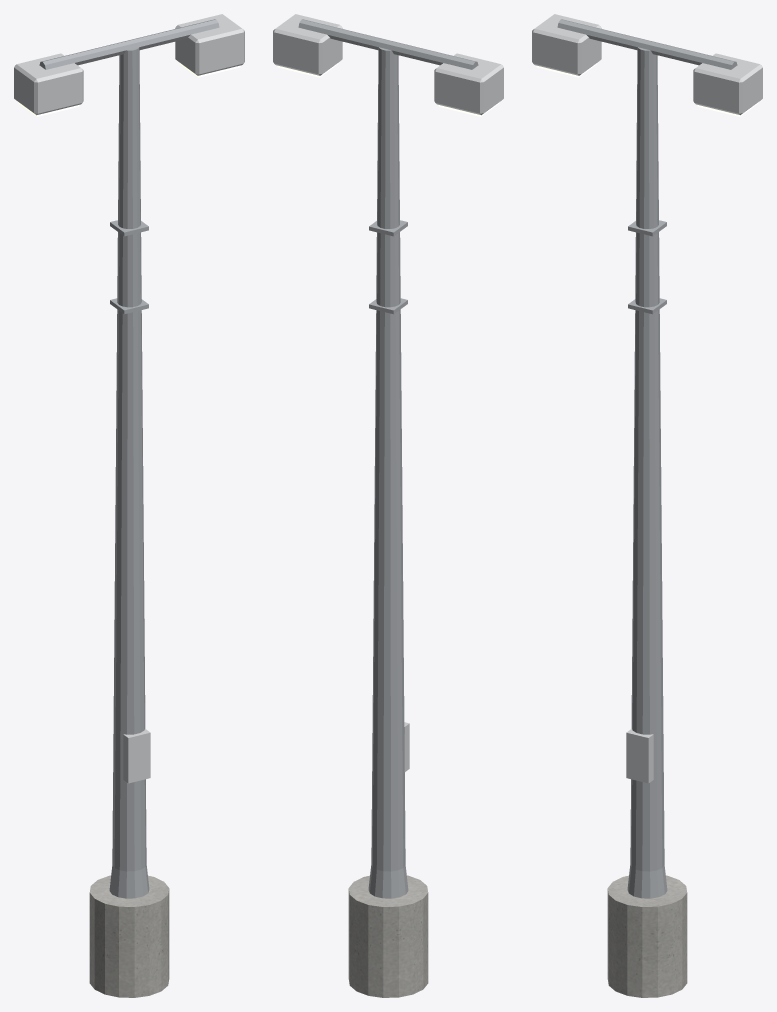
File: lot_lamp.glb
The picture shows the model from 3 angles, left to right: view 1: azimuth 30°, elevation 25°; view 2: azimuth 150°, elevation 25°; view 3: azimuth 330°, elevation 25°; orthographic projection.
Visible parts, largest first — view 1: lot_lamp_steel, lot_lamp_concrete, lot_lamp_metal; view 2: lot_lamp_steel, lot_lamp_concrete, lot_lamp_metal; view 3: lot_lamp_steel, lot_lamp_concrete, lot_lamp_metal.
Boxes of the visible parts, x1,y1,x2,y2 form: lot_lamp_steel: [39, 19, 219, 898]; lot_lamp_concrete: [89, 875, 169, 997]; lot_lamp_metal: [14, 14, 244, 783]; lot_lamp_steel: [298, 19, 478, 898]; lot_lamp_concrete: [348, 875, 428, 997]; lot_lamp_metal: [273, 14, 503, 771]; lot_lamp_steel: [557, 19, 737, 898]; lot_lamp_concrete: [607, 875, 687, 997]; lot_lamp_metal: [532, 14, 762, 783].
Size of the model in its own units: 1.7 by 7.25 by 0.56.
4 materials, 1 textured.
